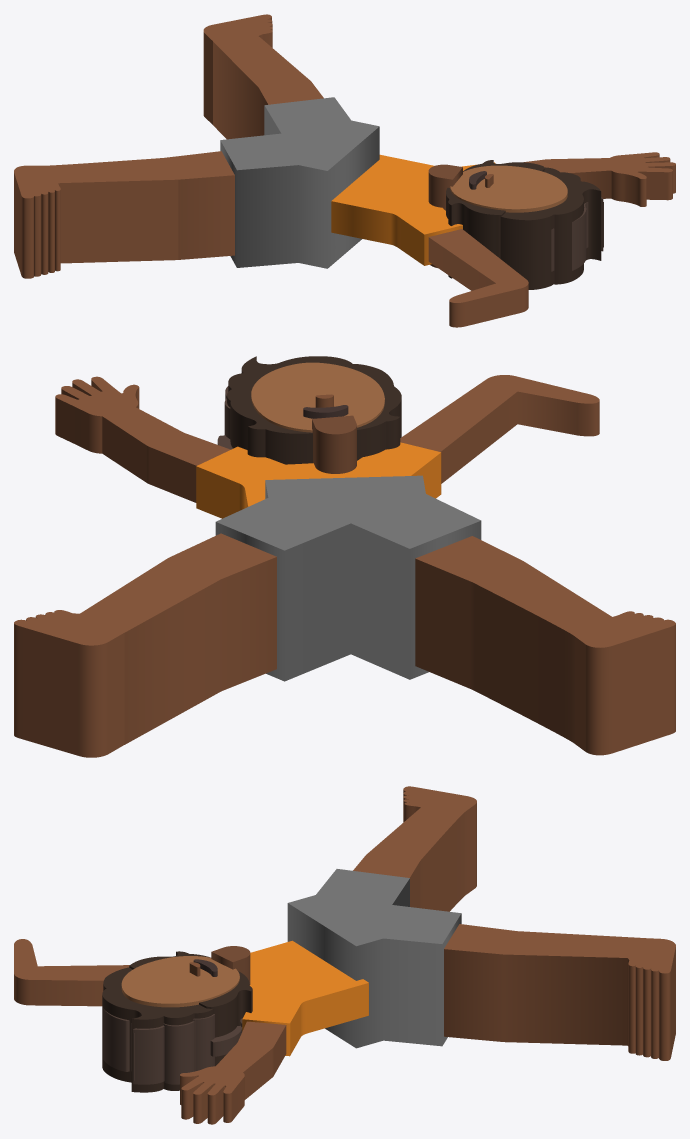
The model's file is emoji_u1f938_1f3fe.glb.
The picture shows the model from 3 angles, top to bottom: view 1: azimuth 30°, elevation 25°; view 2: azimuth 150°, elevation 25°; view 3: azimuth 270°, elevation 25°; orthographic projection. The views are drawn at different scales.
Visible parts, largest first — view 1: emoji_u1f938_1f3fe; view 2: emoji_u1f938_1f3fe; view 3: emoji_u1f938_1f3fe.
Boxes of the visible parts, bbox=[...] form: emoji_u1f938_1f3fe: bbox=[14, 14, 675, 327]; emoji_u1f938_1f3fe: bbox=[14, 356, 675, 757]; emoji_u1f938_1f3fe: bbox=[14, 786, 675, 1124].
Size of the model in its own units: 0.0331 by 0.0056 by 0.0329.
